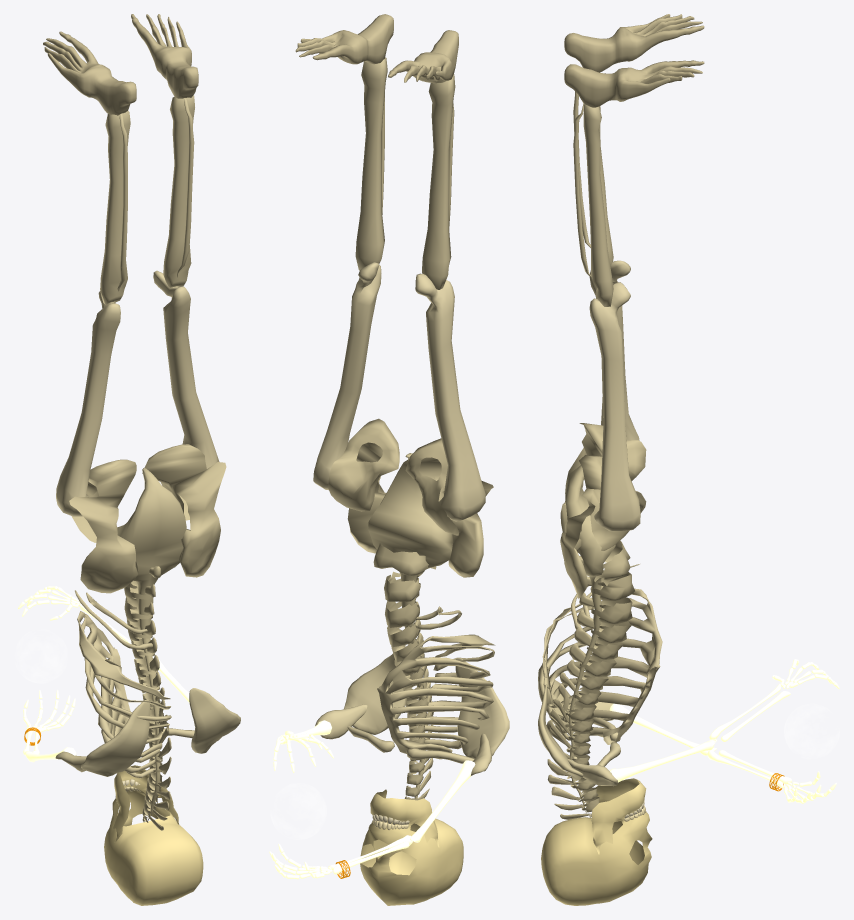
Rendered from skull.gltf.
3 views of the same model, side by side, from view 1: azimuth 30°, elevation 25°; view 2: azimuth 150°, elevation 25°; view 3: azimuth 270°, elevation 25° (orthographic). The views are drawn at different scales.
Parts seen in each view (by area): view 1: Ilium, Femur, Skull, Tibia, Feet, Rib Cage, spine, Clavicle And Shoulder, Spine2, Atmosfera, Cubo.027, Cubo.046; view 2: Femur, Ilium, Tibia, Rib Cage, Skull, Clavicle And Shoulder, Spine2, spine, Feet, Cubo.046, Atmosfera, Cubo.027; view 3: Skull, Spine2, Femur, Feet, Rib Cage, Tibia, Ilium, spine, Clavicle And Shoulder, Cubo.027, Cubo.046, Atmosfera.
Boxes of the visible parts, x1,y1,x2,y2 form: Ilium: [69, 444, 226, 593]; Femur: [56, 270, 219, 516]; Skull: [104, 765, 203, 905]; Tibia: [100, 95, 194, 305]; Feet: [43, 14, 198, 115]; Rib Cage: [75, 590, 171, 778]; spine: [117, 468, 186, 821]; Clavicle And Shoulder: [55, 688, 240, 776]; Spine2: [124, 566, 171, 830]; Atmosfera: [16, 630, 66, 683]; Cubo.027: [18, 586, 189, 703]; Cubo.046: [23, 689, 76, 762]; Femur: [313, 262, 485, 521]; Ilium: [328, 418, 493, 577]; Tibia: [355, 57, 455, 289]; Rib Cage: [377, 606, 495, 759]; Skull: [360, 789, 463, 905]; Clavicle And Shoulder: [315, 646, 509, 775]; Spine2: [373, 543, 436, 800]; spine: [367, 453, 453, 799]; Feet: [295, 14, 458, 83]; Cubo.046: [269, 760, 475, 879]; Atmosfera: [270, 783, 326, 839]; Cubo.027: [273, 720, 334, 772]; Skull: [541, 778, 652, 905]; Spine2: [546, 540, 634, 820]; Femur: [589, 260, 640, 531]; Feet: [564, 14, 704, 107]; Rib Cage: [538, 564, 662, 760]; Tibia: [573, 91, 613, 306]; Ilium: [560, 423, 646, 598]; spine: [565, 465, 615, 818]; Clavicle And Shoulder: [538, 660, 620, 786]; Cubo.027: [609, 659, 839, 782]; Cubo.046: [609, 703, 836, 803]; Atmosfera: [784, 704, 839, 758].
Bounding box in the file's own units: 38.16 × 187 × 59.58.
